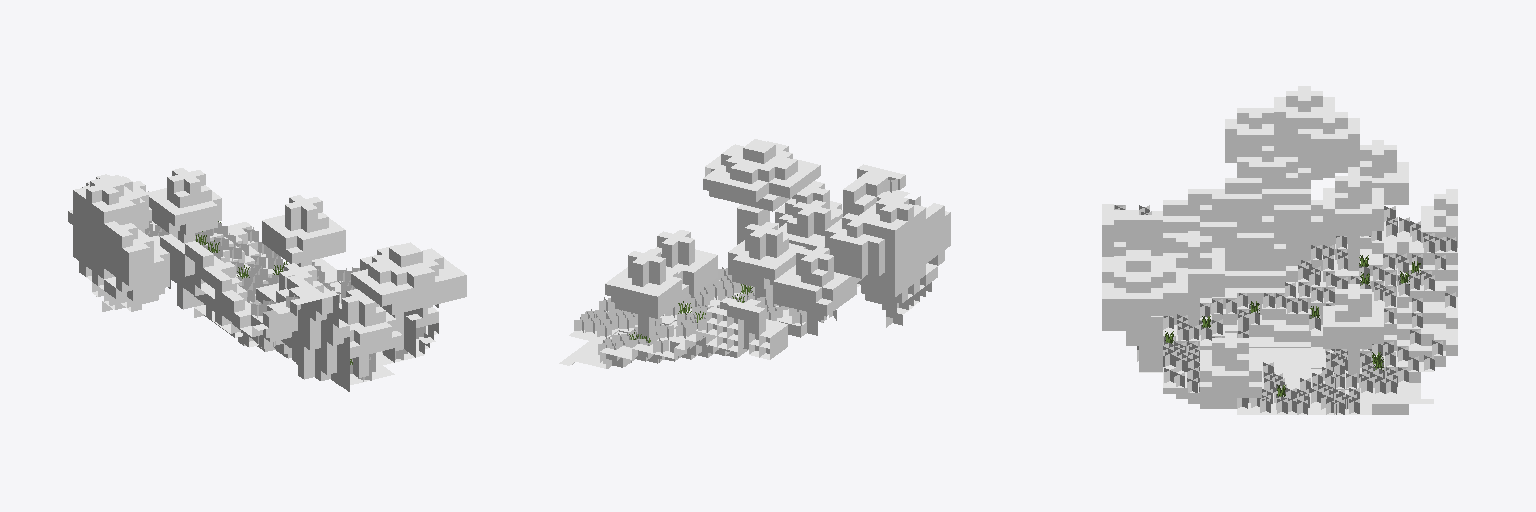
3 views of the same model, side by side, from view 1: azimuth 30°, elevation 25°; view 2: azimuth 150°, elevation 25°; view 3: azimuth 270°, elevation 25° (orthographic).
Parts seen in each view (by area): view 1: mine_rtx__410_61_-180_to_444_255_-152; view 2: mine_rtx__410_61_-180_to_444_255_-152; view 3: mine_rtx__410_61_-180_to_444_255_-152.
Boxes of the visible parts, x1=… form: mine_rtx__410_61_-180_to_444_255_-152: x1=68, y1=168, x2=466, y2=391; mine_rtx__410_61_-180_to_444_255_-152: x1=559, y1=139, x2=950, y2=368; mine_rtx__410_61_-180_to_444_255_-152: x1=1102, y1=86, x2=1457, y2=414.
Size of the model in its own units: 2.91 by 1.7 by 2.9.
Materials: 31 (1 with a texture image).